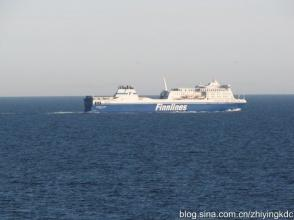Cargoship: (81, 71, 248, 118)
